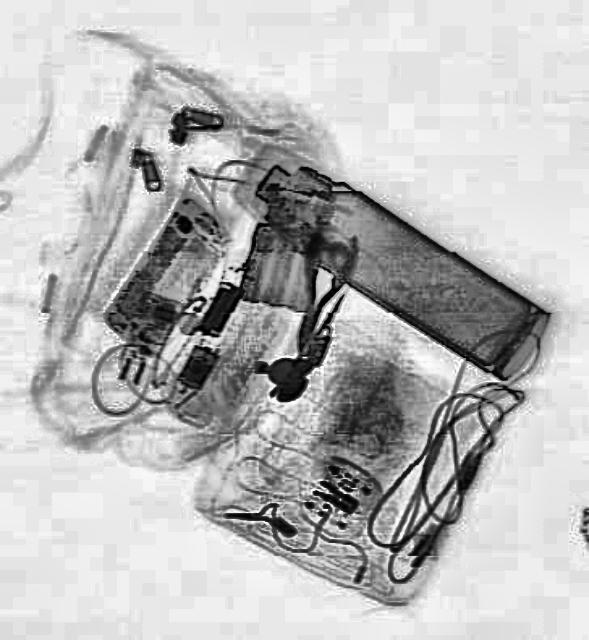Pliers: (271, 224, 361, 358)
